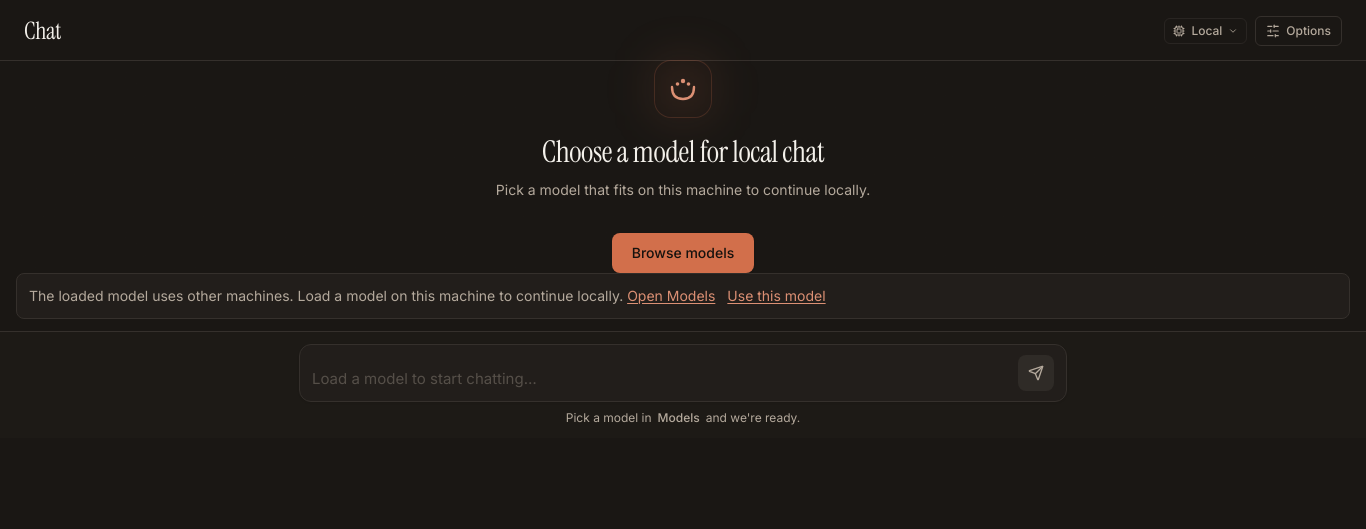
keeps local use after account restoration until the member chooses the loaded split model
Expected: the message shows "The loaded model uses other machines.", left=29, top=287, right=623, bottom=304
Step 1. Type "Keep this draft" into the text box named "Chat message" → (661, 379), box left=312, top=367, right=1010, bottom=391
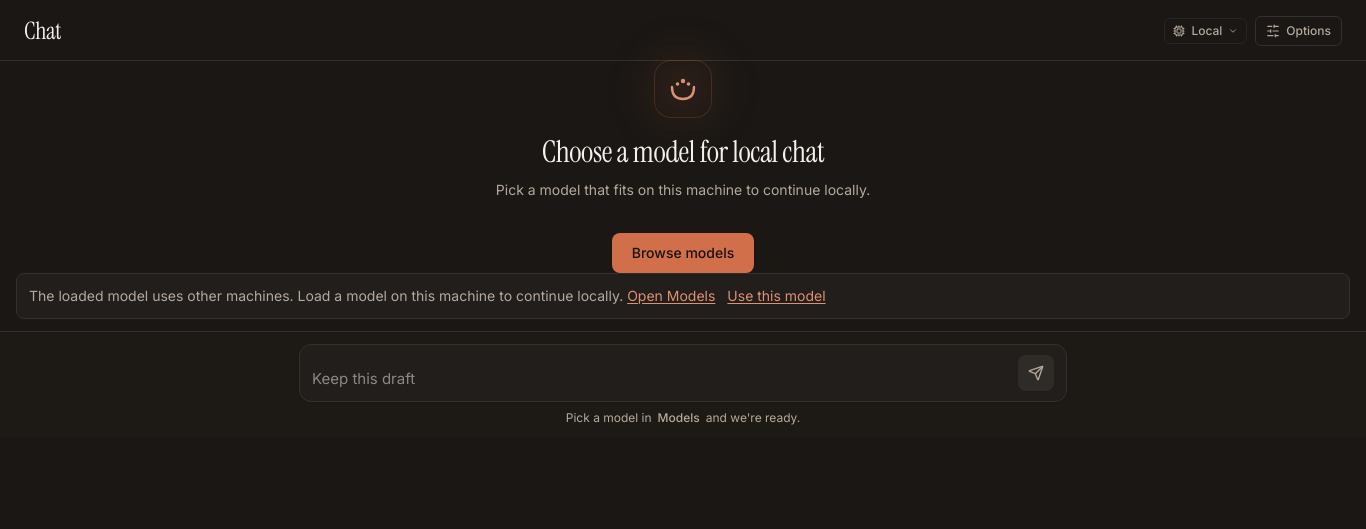
Expected: the button named "Send message" is disabled, left=1018, top=355, right=1054, bottom=391
Step 2. Click the button "Use this model" → click(776, 296), box left=727, top=286, right=826, bottom=306
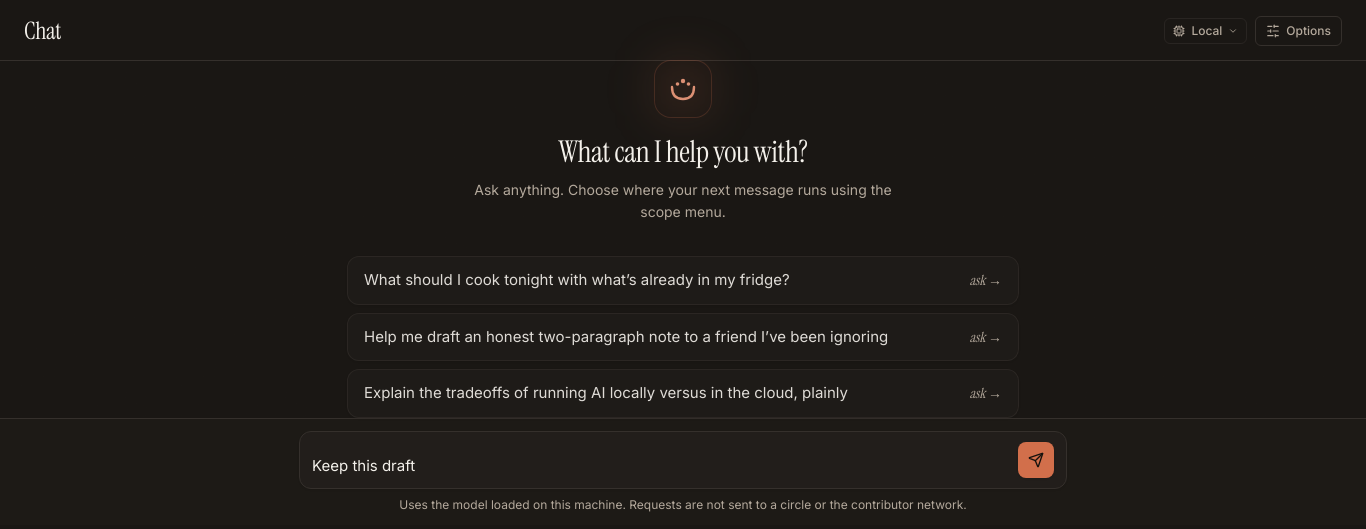
Expected: the message is gone
Expected: the button named "Send message" is enabled, left=1018, top=442, right=1054, bottom=478
